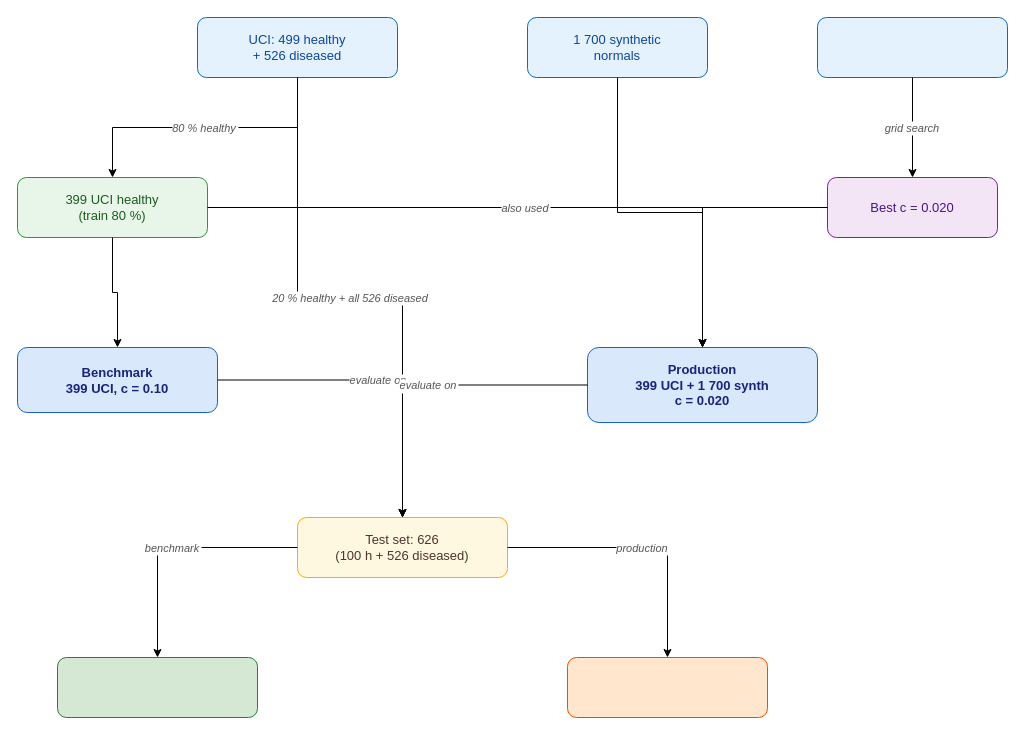
The diagram is 1025 pixels wide and 735 high, and some of its shapes have lost their labels. The centre of each missing label's shape, as x and y in pixels:
"Grid-search set (2 000 synthetic)" goes at pixel 912 47.
"P = 0.90 R = 0.35 F1 = 0.51" goes at pixel 667 687.
"P = 0.96 R = 0.70 F1 = 0.81" goes at pixel 157 687.
